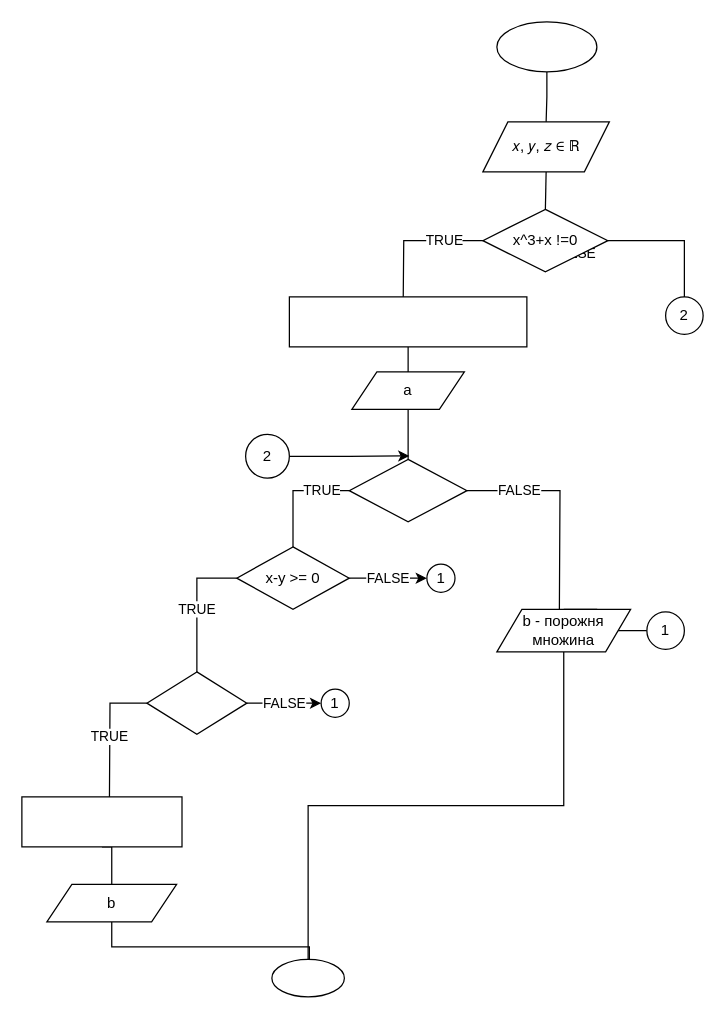
The diagram is 726 pixels wide and 1019 high, and some of its shapes have lost their labels. Each missing label, with the box of its shape:
a !=0: (146, 671, 247, 734)
a = x+((Abs(y)+z^3)^1/3)/(x^3+x): (288, 296, 527, 347)
b = Sqrt(x-y)/z + 1/a^2: (21, 796, 182, 847)
end: (271, 958, 344, 997)
Start: (496, 21, 597, 72)
z!=0: (348, 458, 467, 522)
